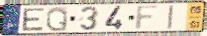3: (76, 5, 101, 32)
4: (104, 5, 126, 32)
E: (22, 7, 46, 32)
F: (134, 4, 162, 32)
I: (167, 4, 176, 31)
Q: (45, 6, 69, 33)
